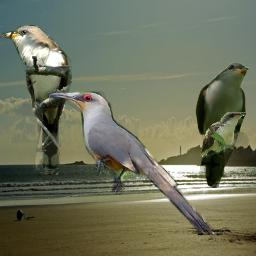Cuckoo: (48, 90, 216, 239), (0, 25, 72, 175), (195, 62, 249, 188), (200, 111, 246, 158)
